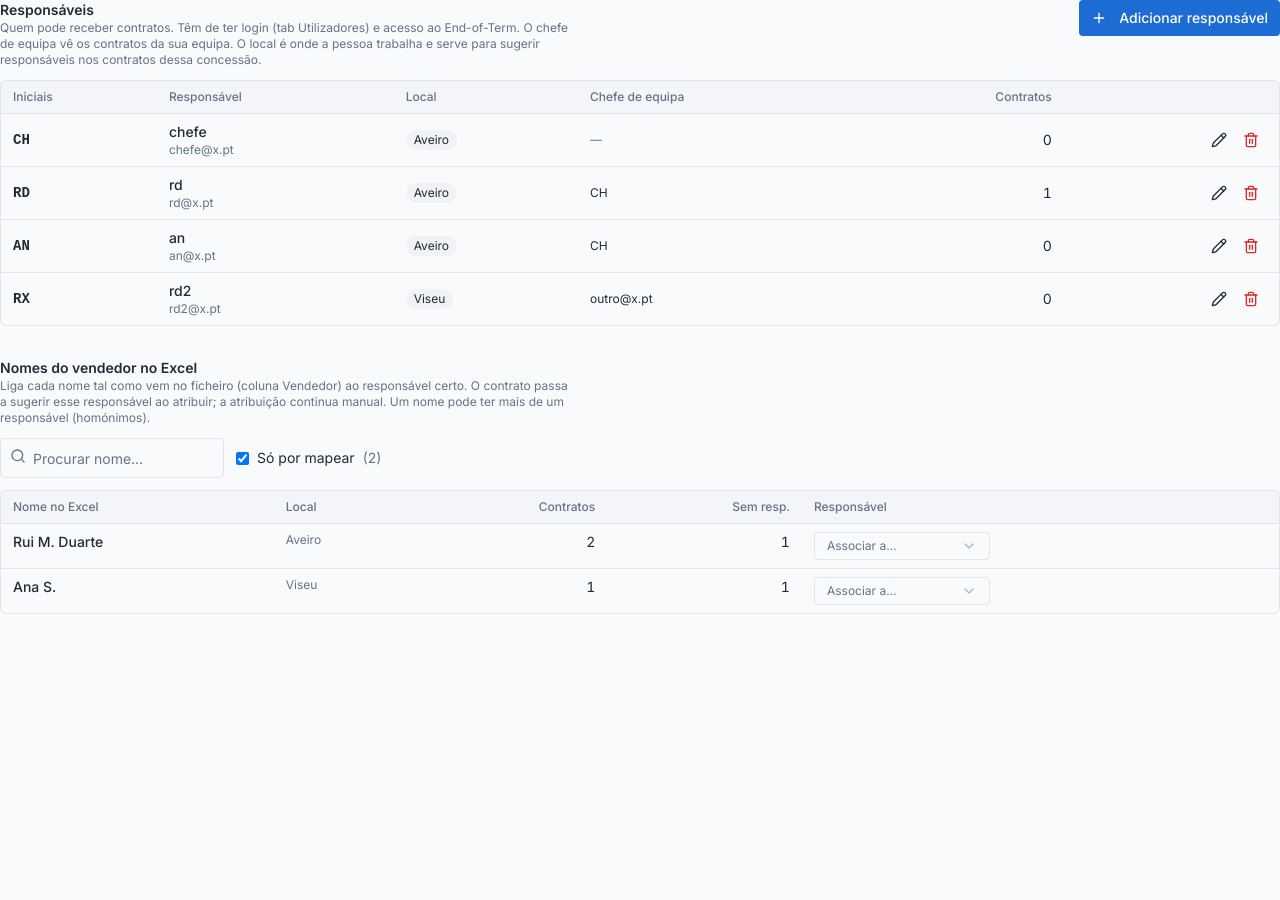
Test: OwnersPanel › se a conta é criada mas juntar aos responsáveis falha, as credenciais mostram-se na mesma
This screenshot has width=1280, height=900.
Click the button "Adicionar responsável": (1180, 18) [1079,0,1279,36]
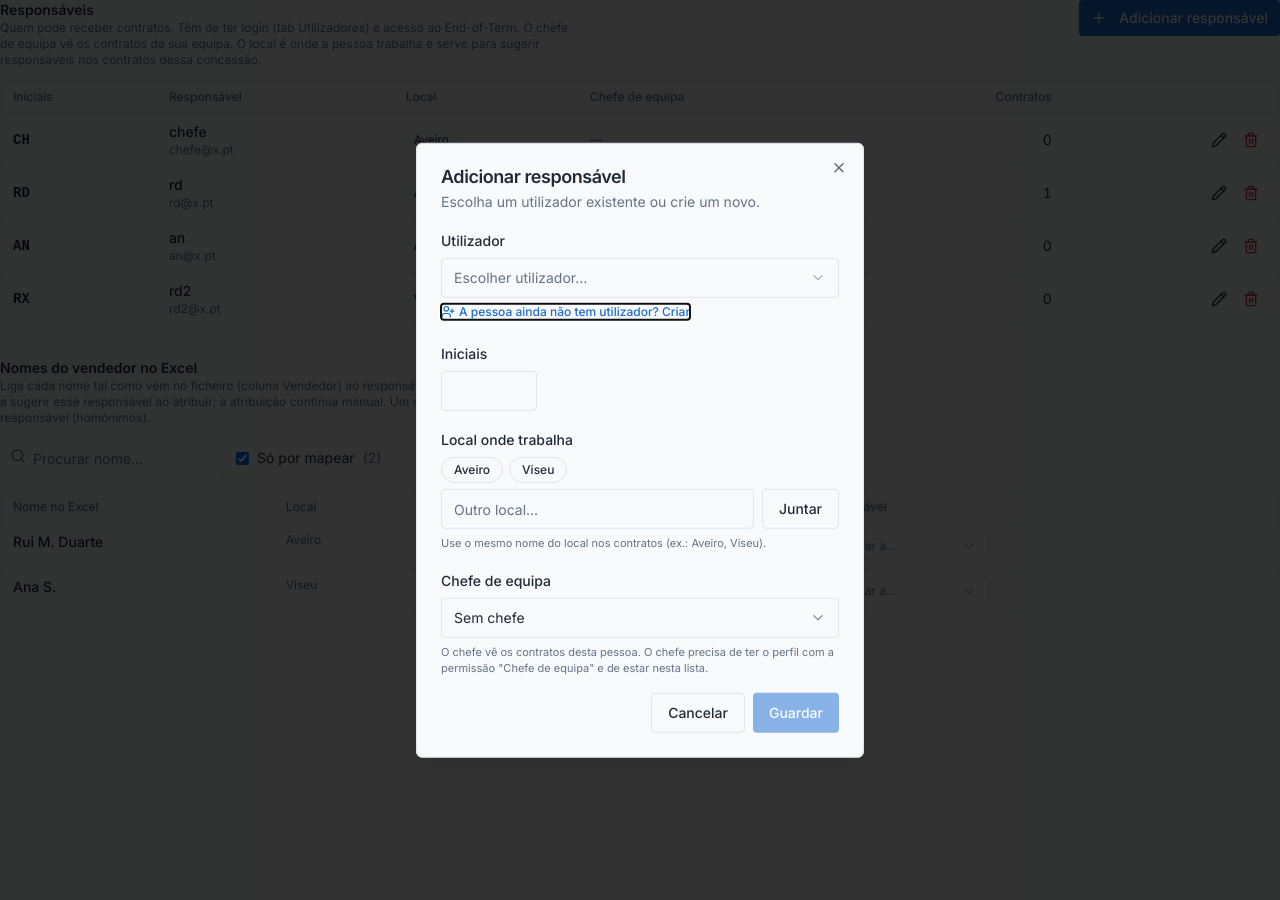
Click the button "A pessoa ainda não tem utilizador? Criar": (566, 312) [441,304,690,320]
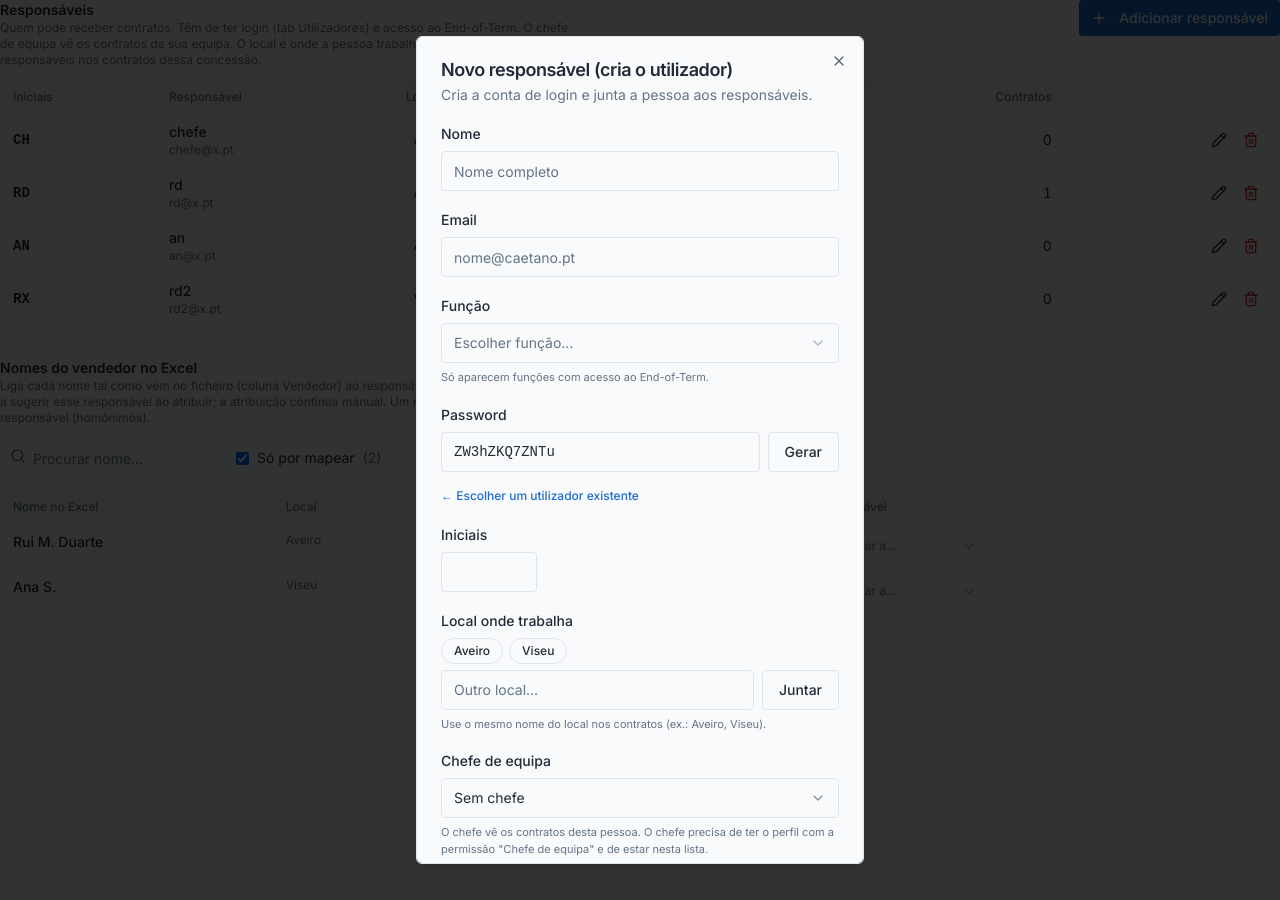
In the field labelled "Nome": (640, 171) [441,151,839,191], type "Maria Costa"
In the field labelled "Email": (640, 257) [441,237,839,277], type "maria@caetano.pt"
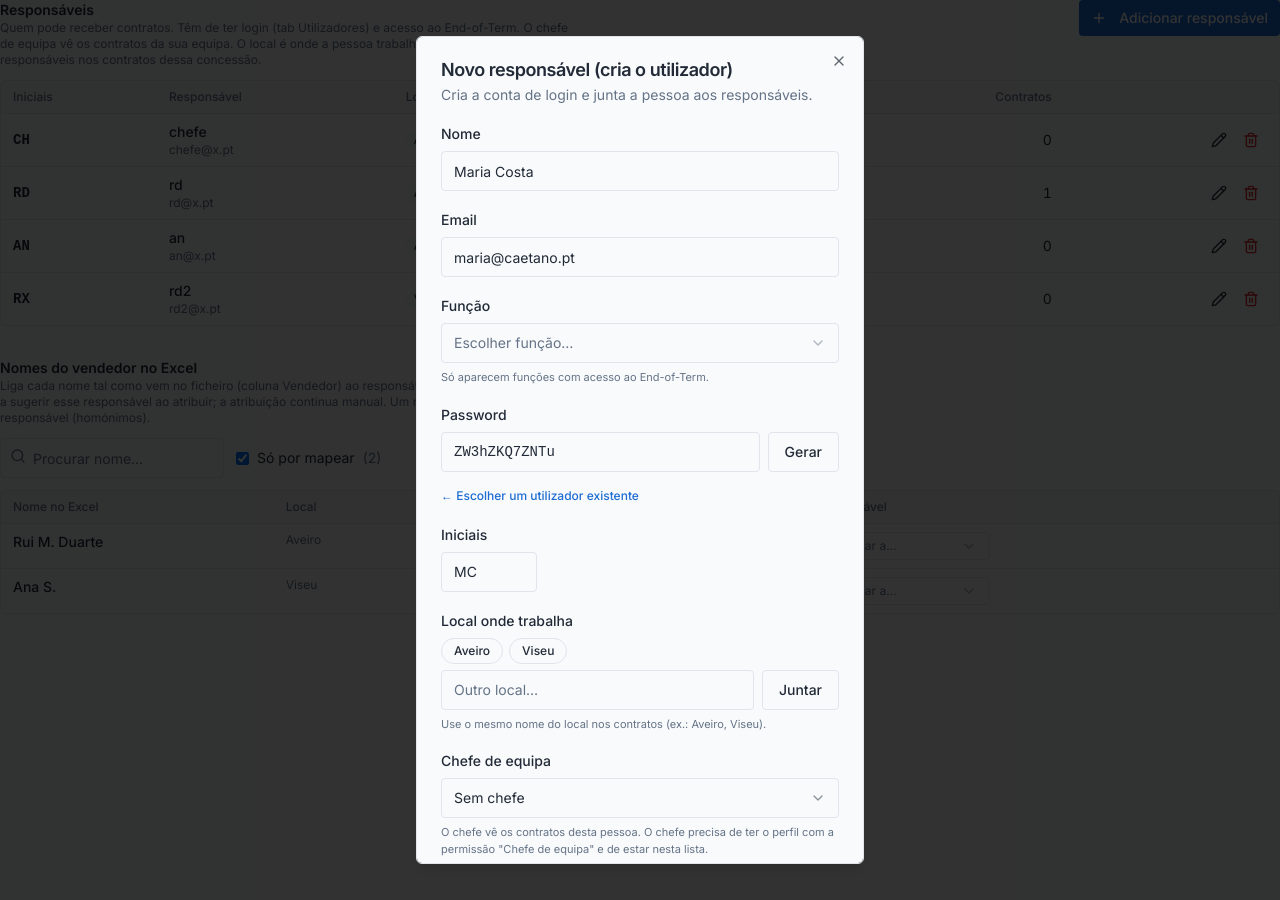
Press ArrowDown in the dropdown labelled "função", box [441,323,839,363]
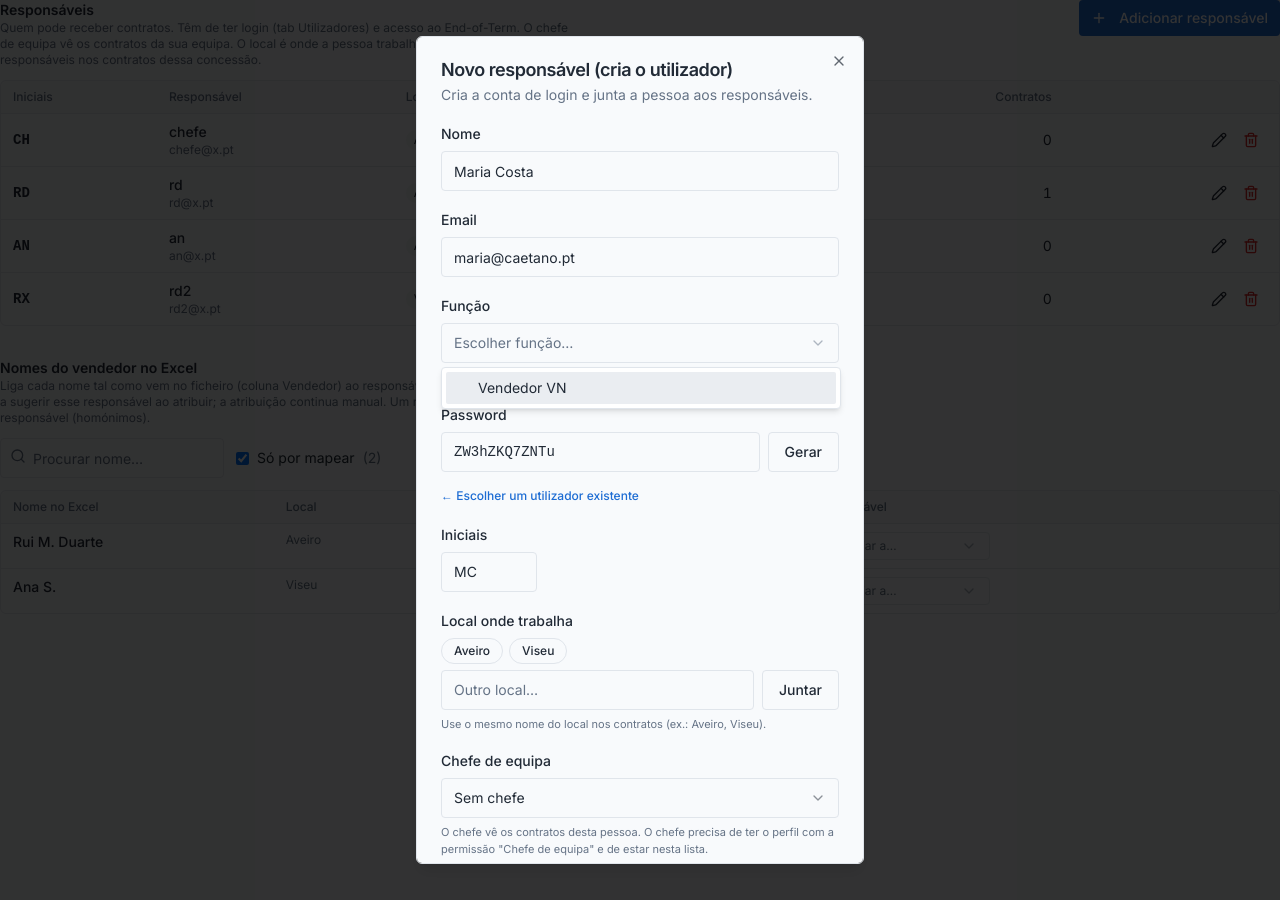
Click the option "Vendedor VN": (522, 388) [446,372,836,404]
(page scrolled)
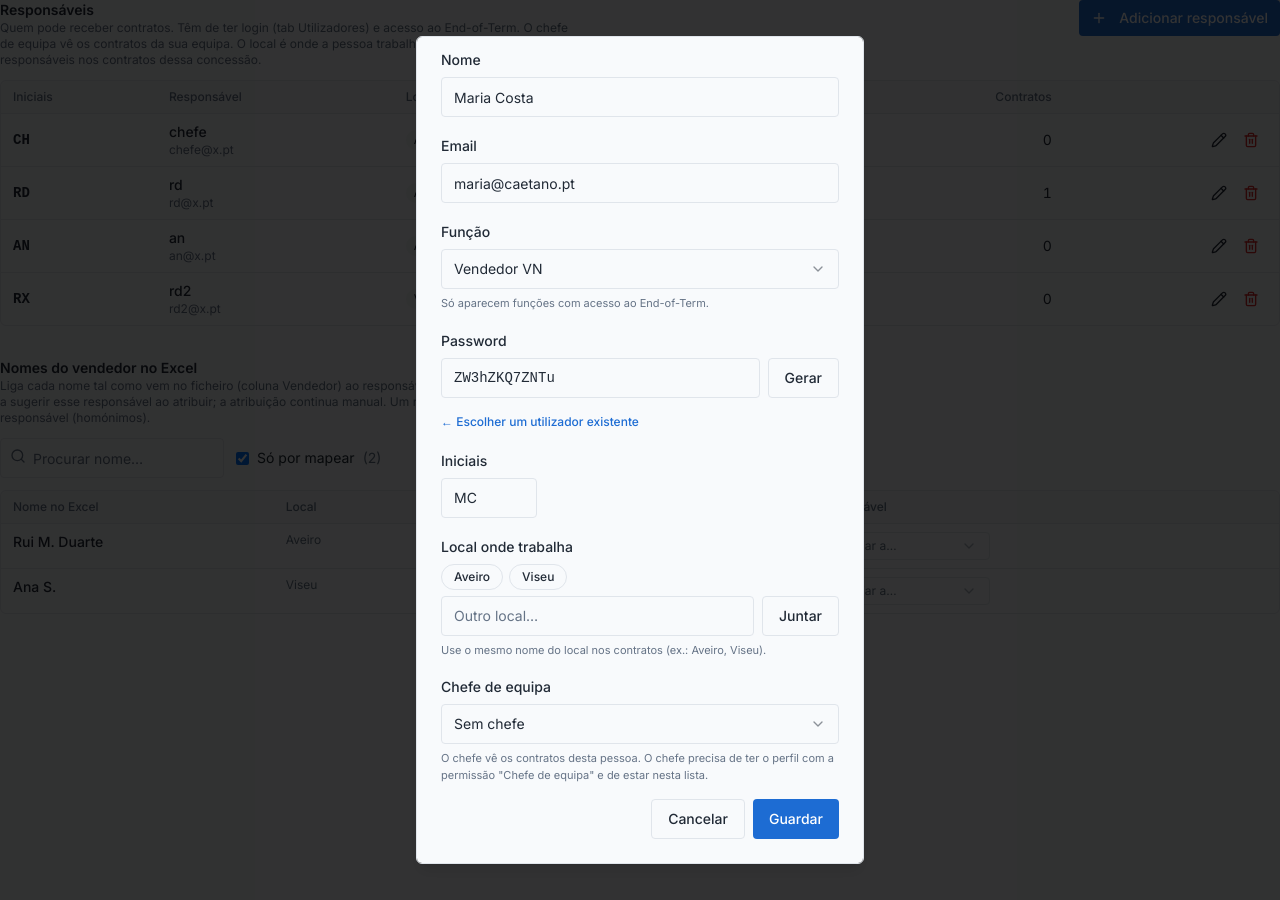
Click the button "Guardar": (796, 819) [753,799,839,839]
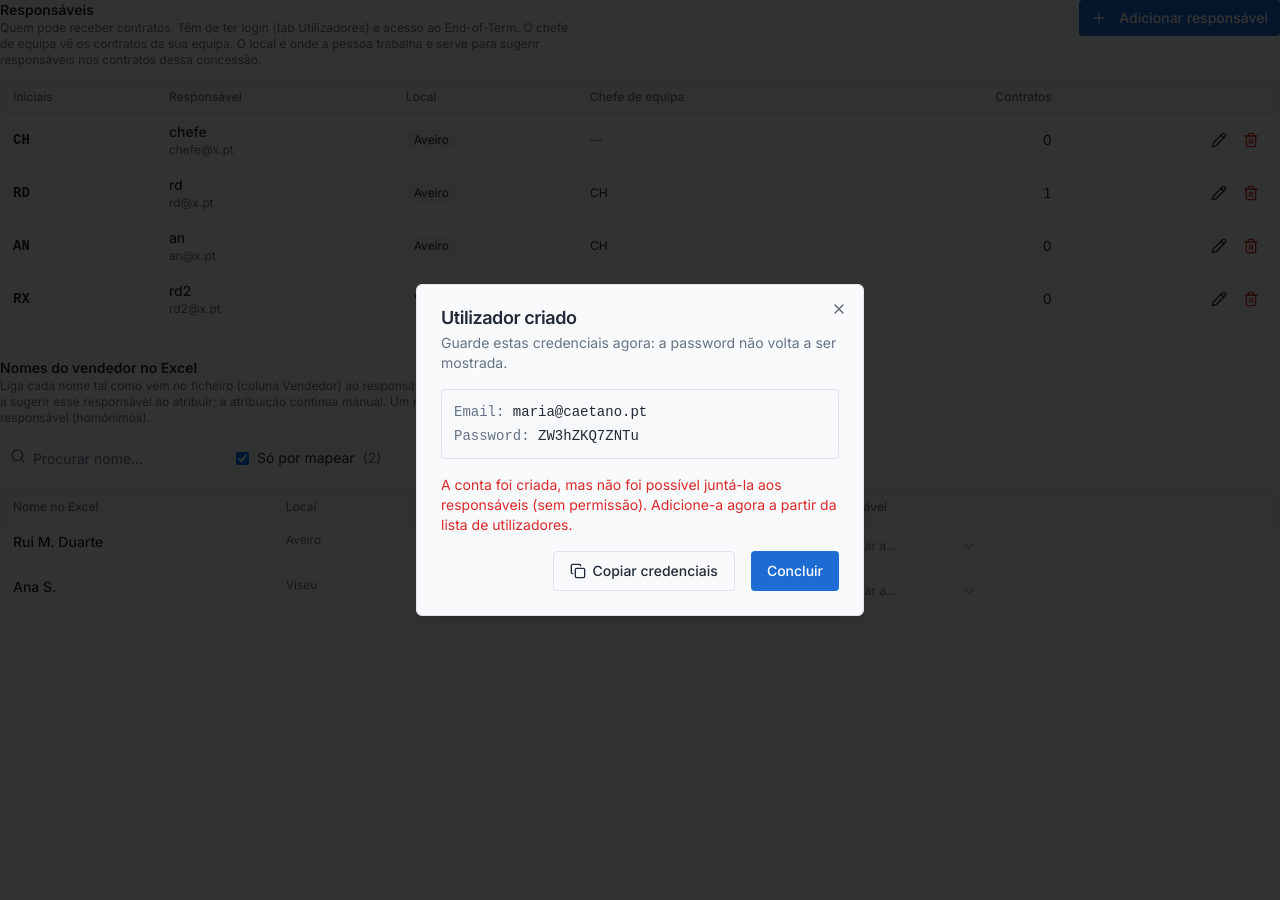
Now the heading "Utilizador criado" is shown, box [441,307,576,328]
Now the text "sem permissão" is shown, box [538,496,638,513]
